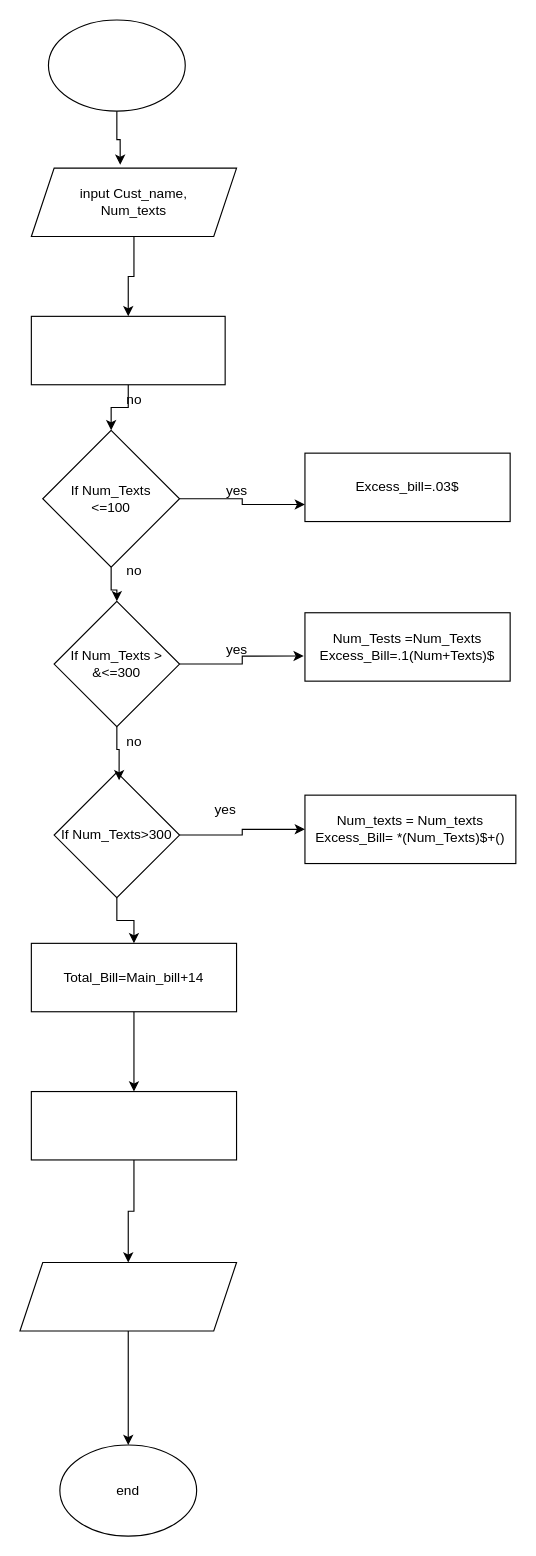
This 536x1556 diagram has some shape labels left out. The shapes that lost their labels are listed below. From the top down, each one's centre as x and y in pixels, then its label:
point (116, 65): begin
point (127, 350): Main_Bill=5$
point (133, 1125): total bill after taxes= Total_bill+ *Total_bill
point (128, 1296): Display Cust_Name Display Total_Bill Display Total_Bill_after_Tax
